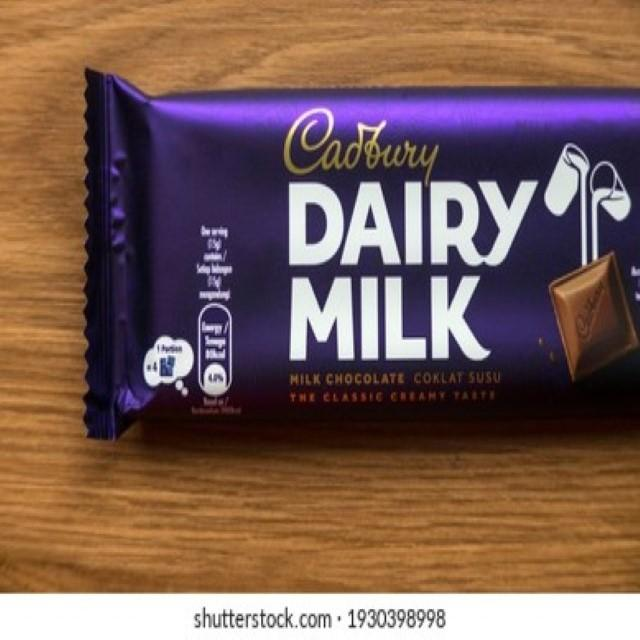cadbury_chocolate: (86, 68, 640, 431)
